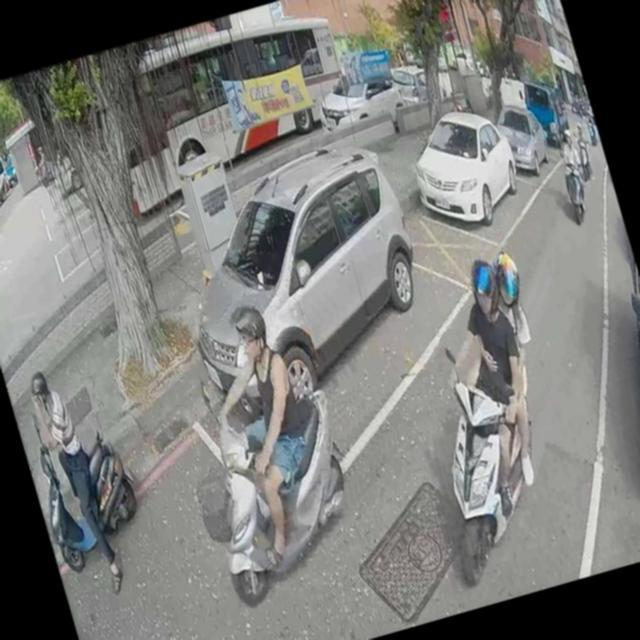person: (183, 293, 343, 573), (414, 247, 565, 524), (434, 248, 574, 480), (20, 362, 130, 599), (553, 126, 592, 210), (30, 142, 50, 178), (580, 105, 596, 134), (570, 121, 587, 146)
